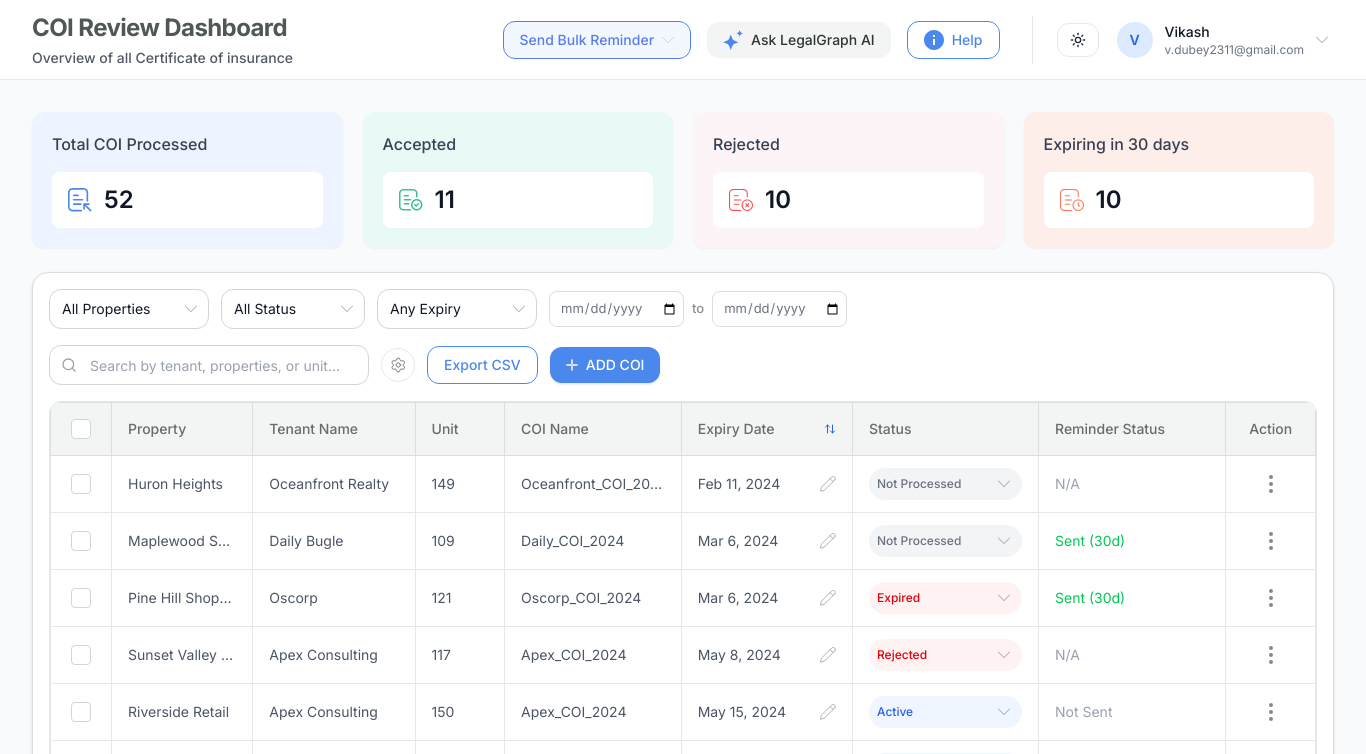
Dashboard Page › opens and closes Add COI Modal
The image size is (1366, 754).
Click the button "ADD COI" at (605, 365), box [550,347,660,383]
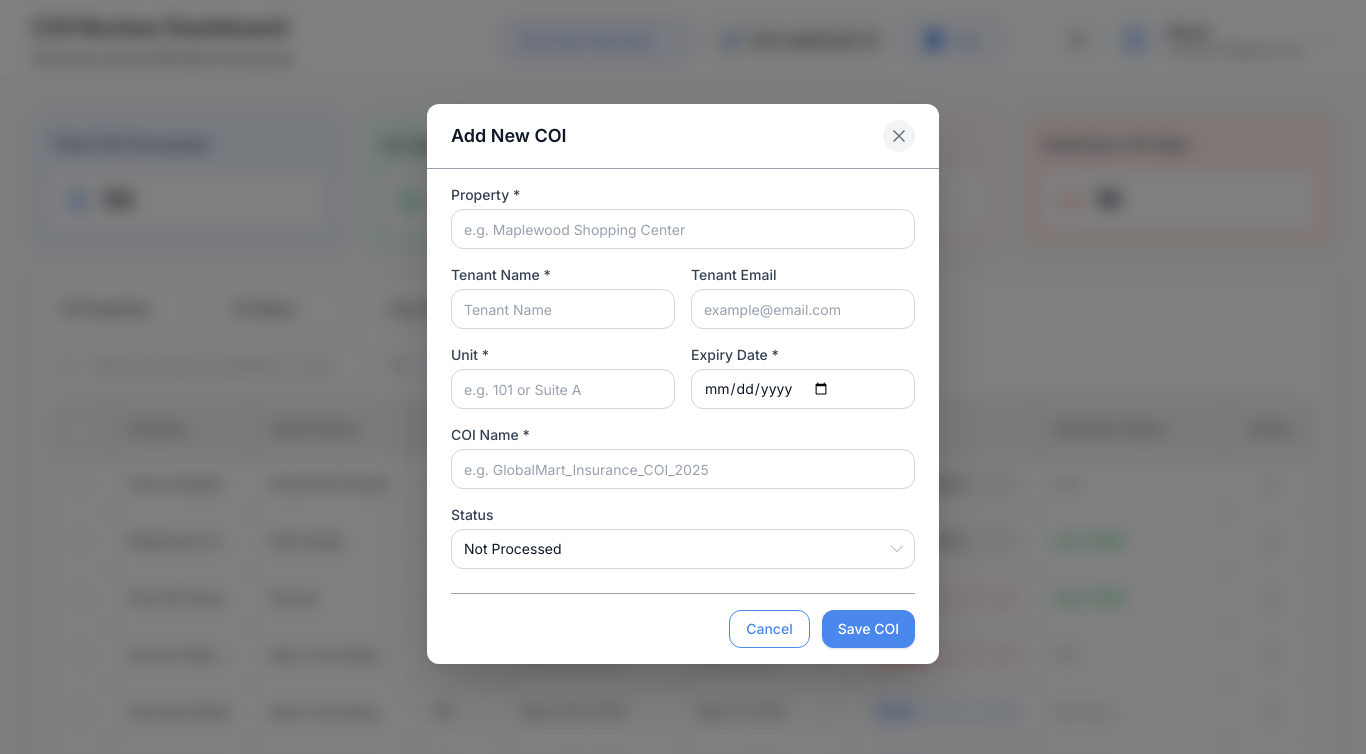
Result: the heading "Add New COI" is shown at [451,122,567,150]
